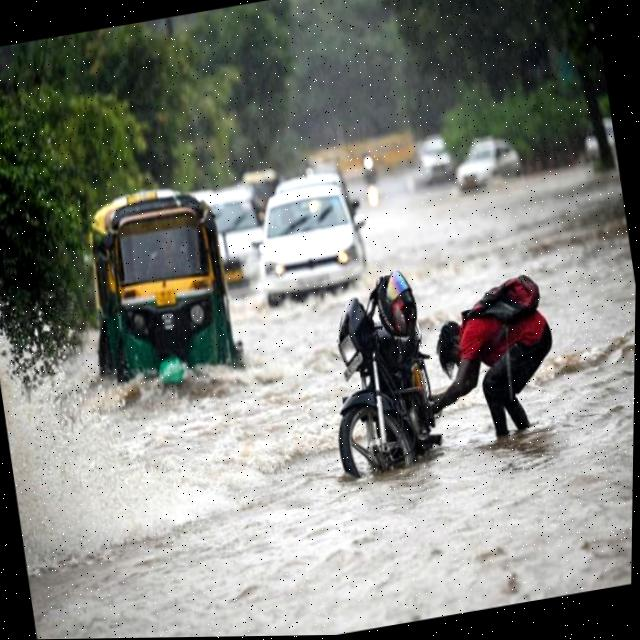civilian: (422, 269, 570, 475)
